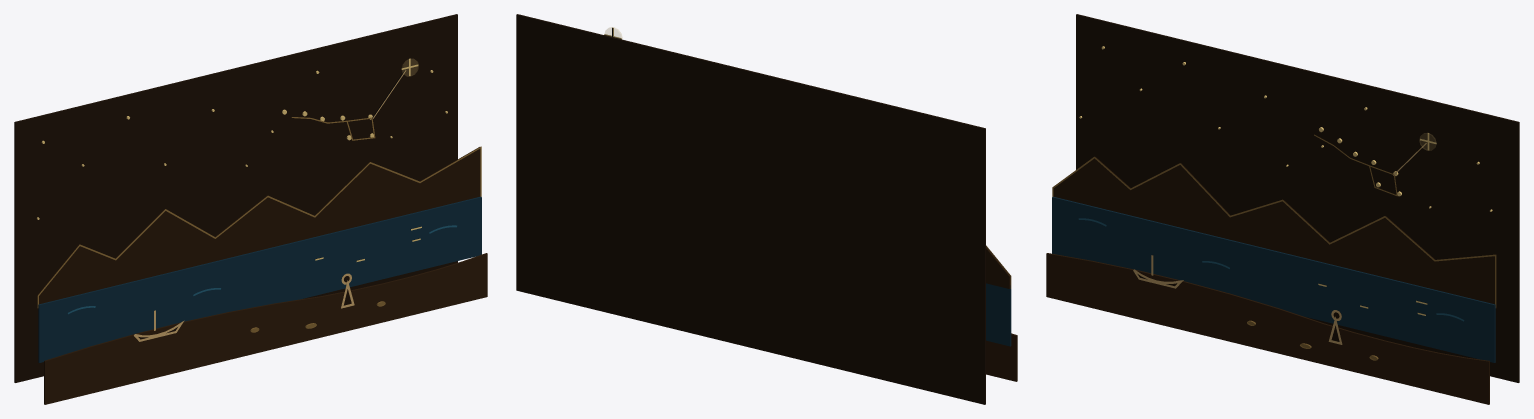
The model's file is loc-bereg-noch.glb.
3 renders of one model, left to right at view 1: azimuth 30°, elevation 25°; view 2: azimuth 150°, elevation 25°; view 3: azimuth 330°, elevation 25°, orthographic. The views are drawn at different scales.
Visible parts, largest first — view 1: loc-bereg-noch; view 2: loc-bereg-noch; view 3: loc-bereg-noch.
Boxes of the visible parts, x1,y1,x2,y2 form: loc-bereg-noch: (14, 14, 487, 404); loc-bereg-noch: (516, 14, 1017, 404); loc-bereg-noch: (1046, 14, 1519, 404).
Bounding box in the file's own units: 5.35 × 3 × 0.781.
